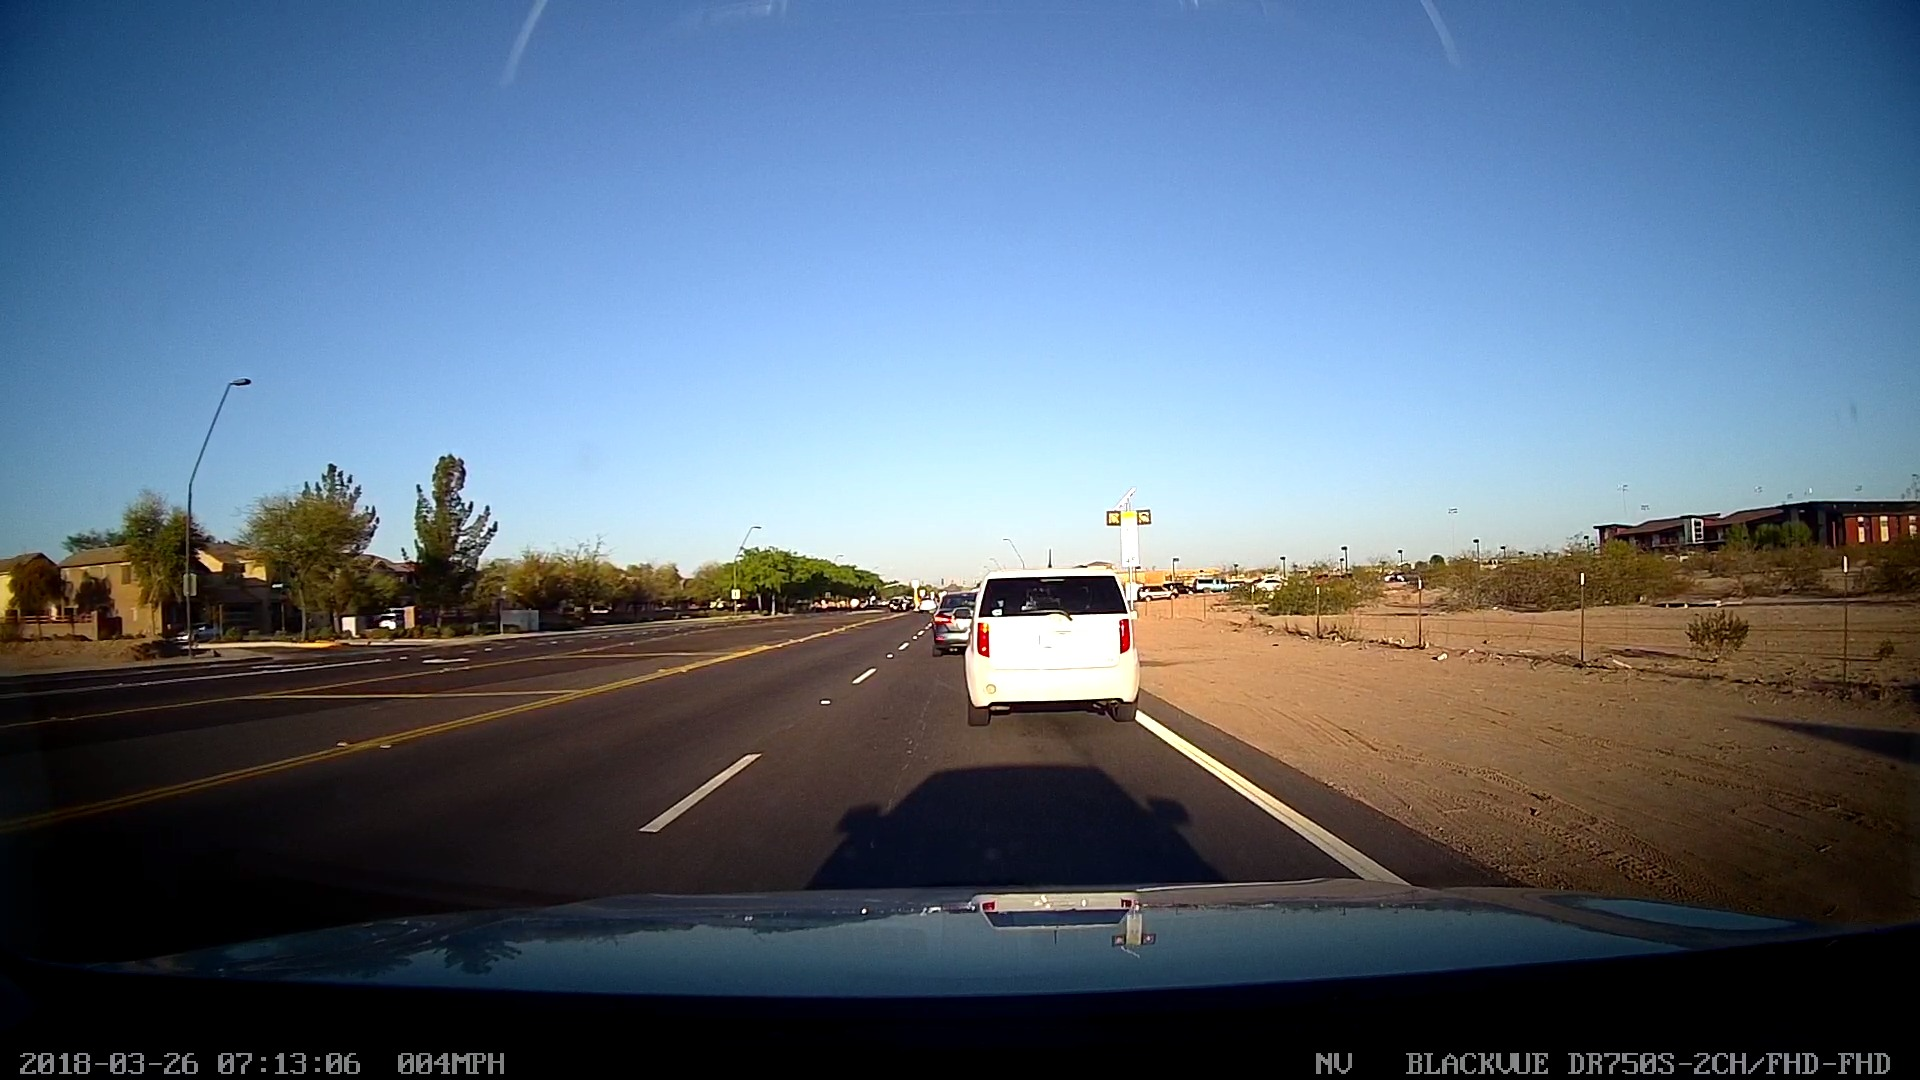vehicle: (953, 560, 1147, 728), (924, 585, 989, 665)
